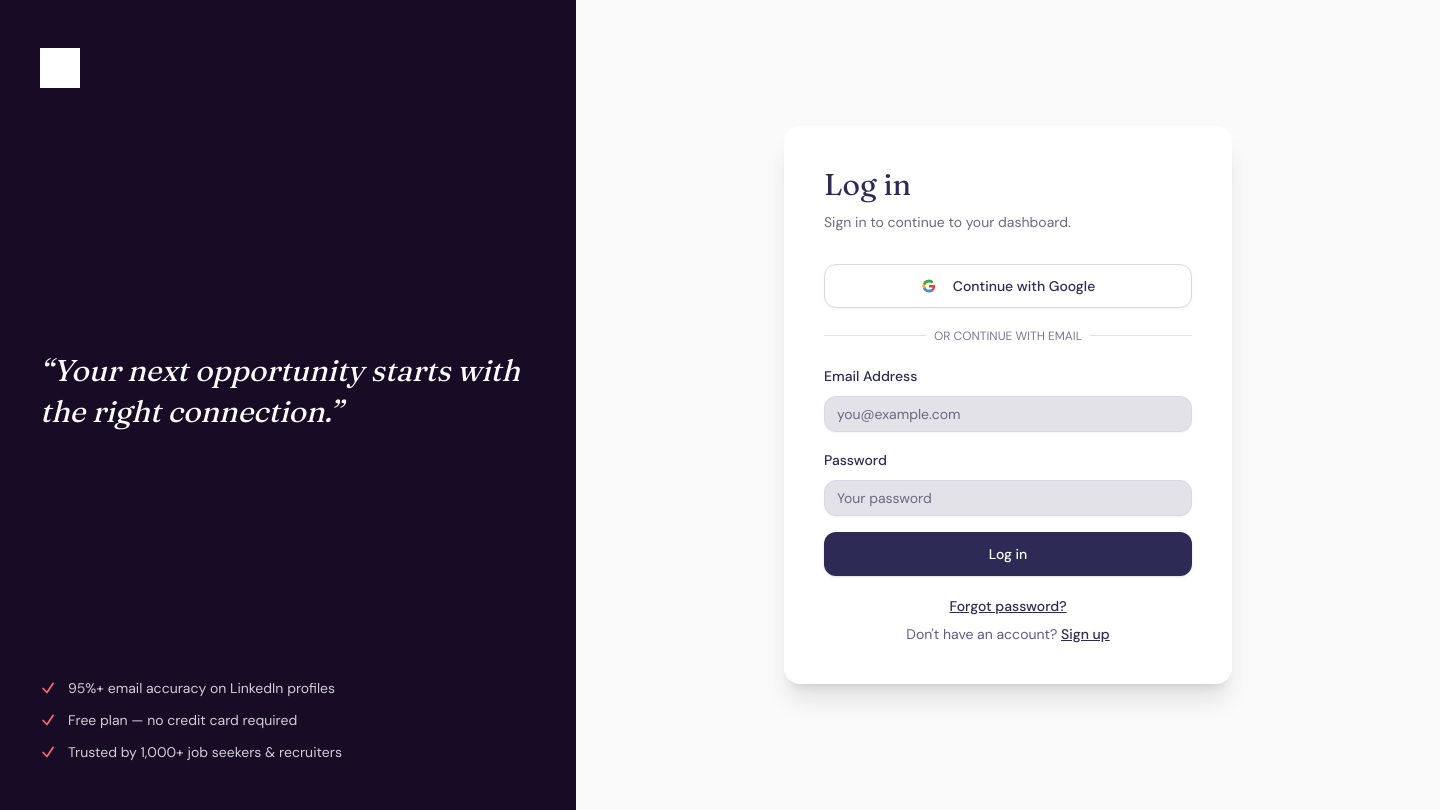
Test: Auth integration flows › login shows error when credentials are invalid
Type "wrong@example.com" into the field with placeholder "you@example.com" at (1008, 414), box [824,396,1192,432]
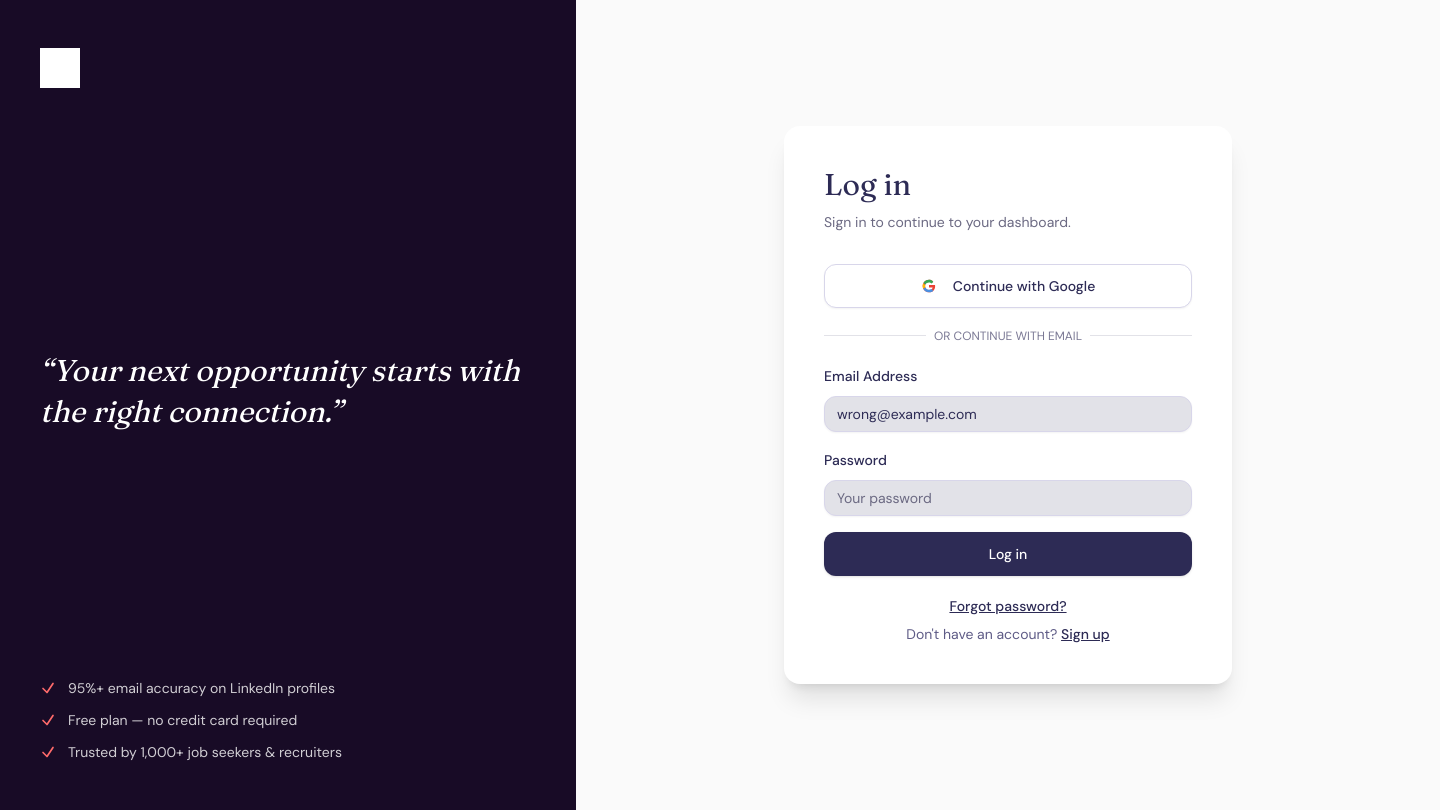
Type "wrong" into the password field with placeholder "Your password" at (1008, 498), box [824,480,1192,516]
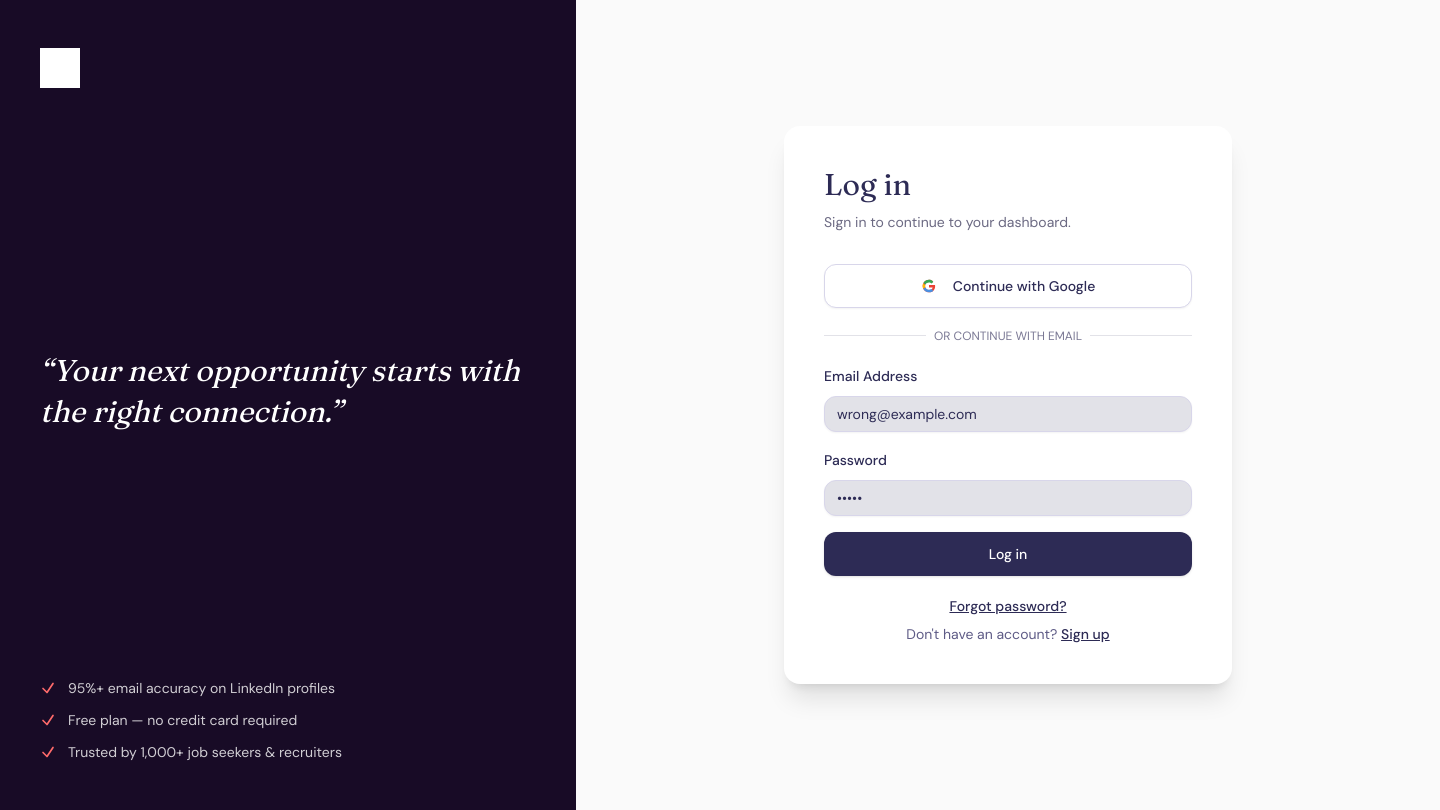
Submit the form, box [824,364,1192,576]
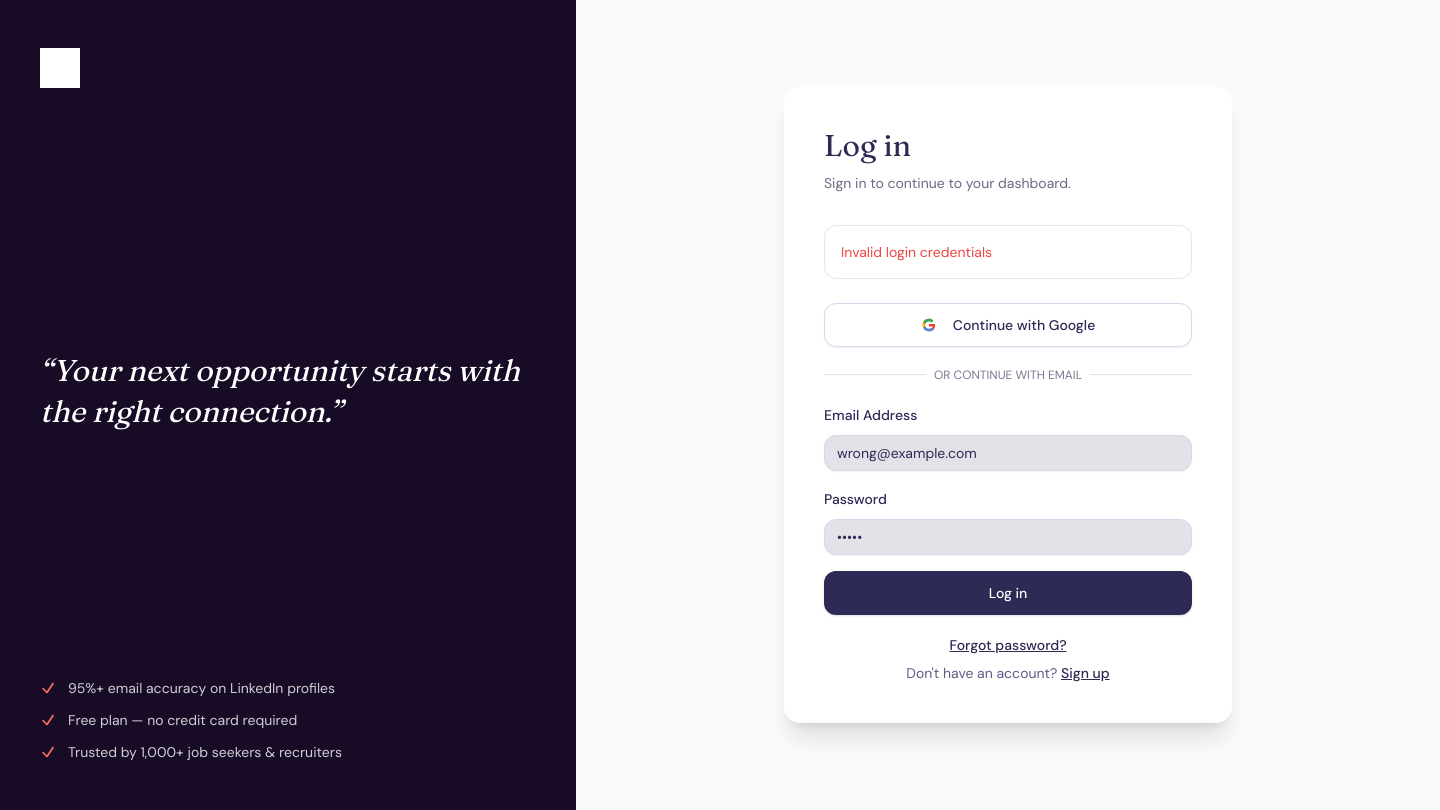
Expected: the text "Invalid login credentials" is shown, [841,243,992,261]
